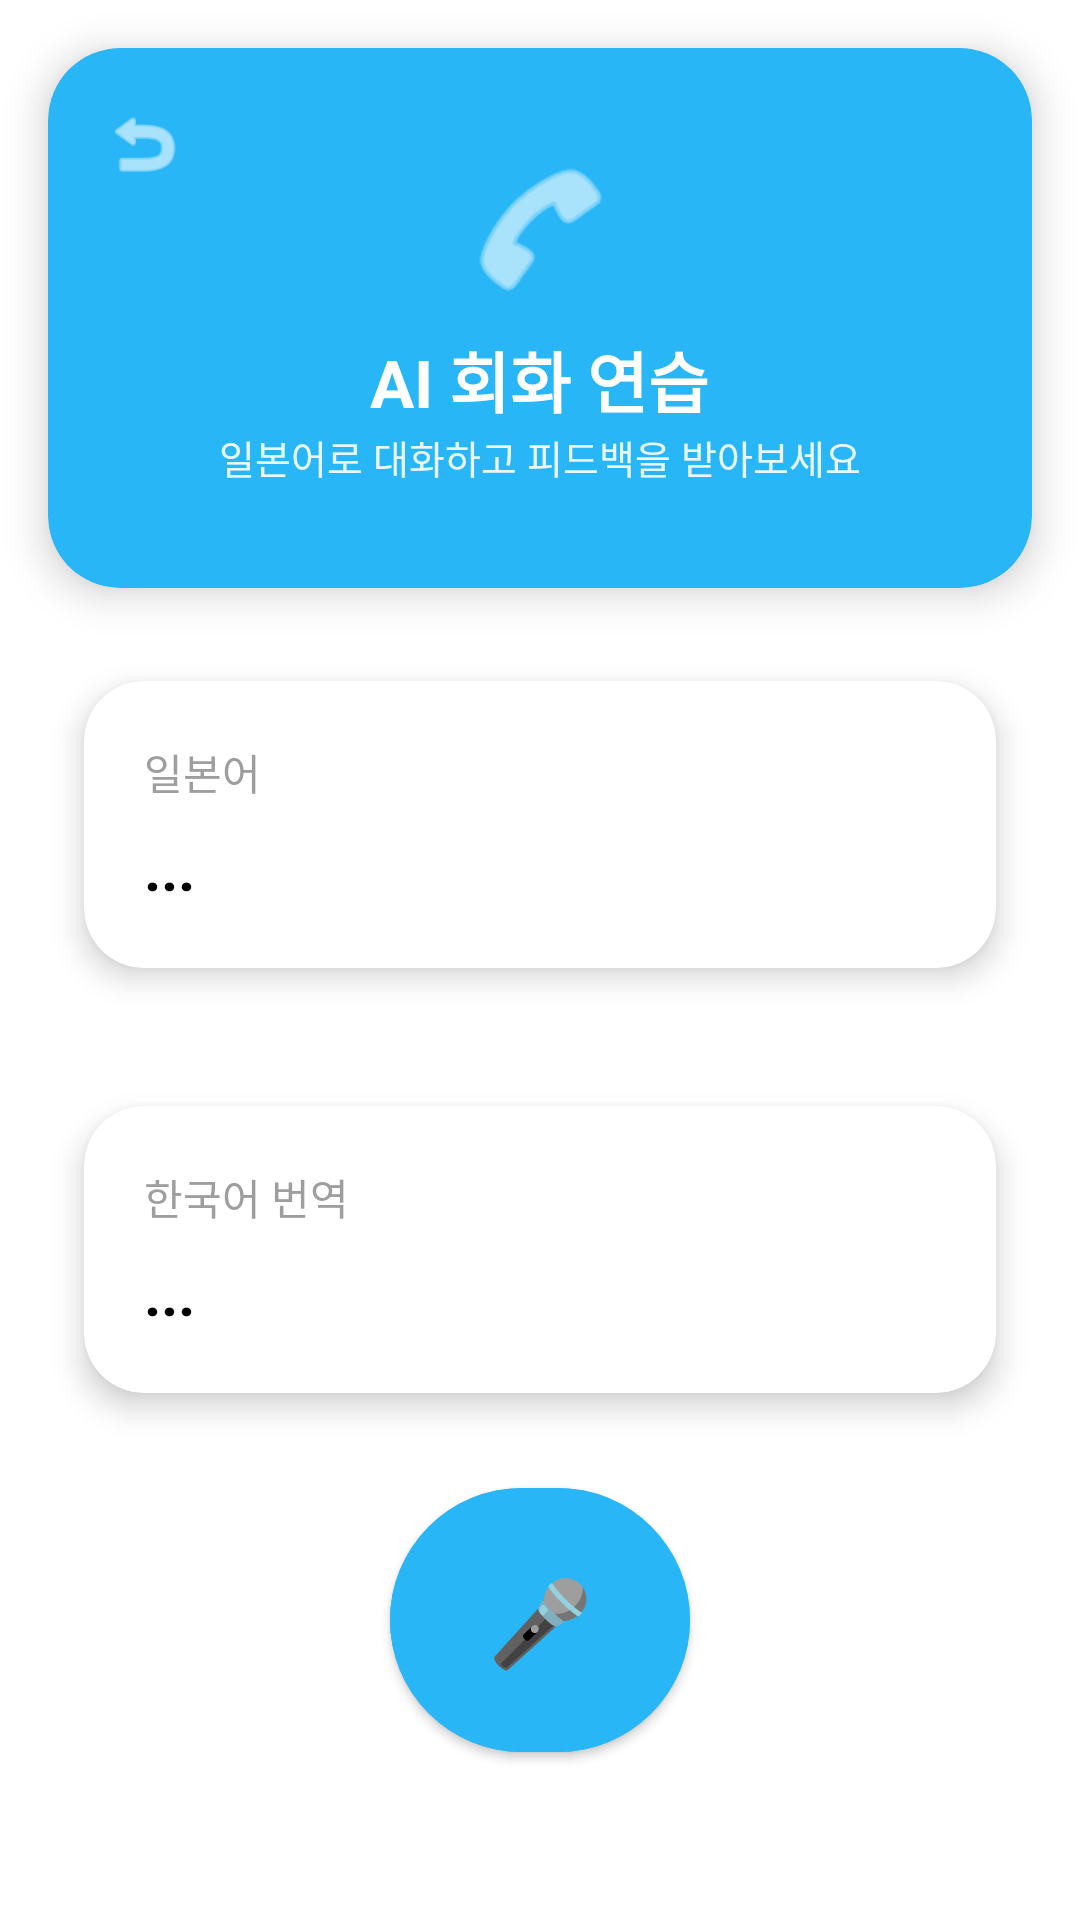

Point at icon controls on the screen. Image size 1080x1920, points as (x,y).
call: (541,230)
뒤로가기: (145,144)
